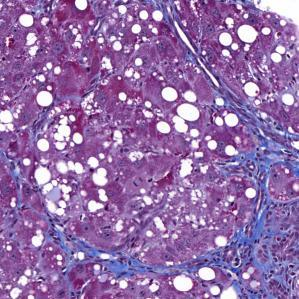fibrosis: (234, 193, 298, 299), (60, 228, 158, 283), (228, 111, 299, 177)
